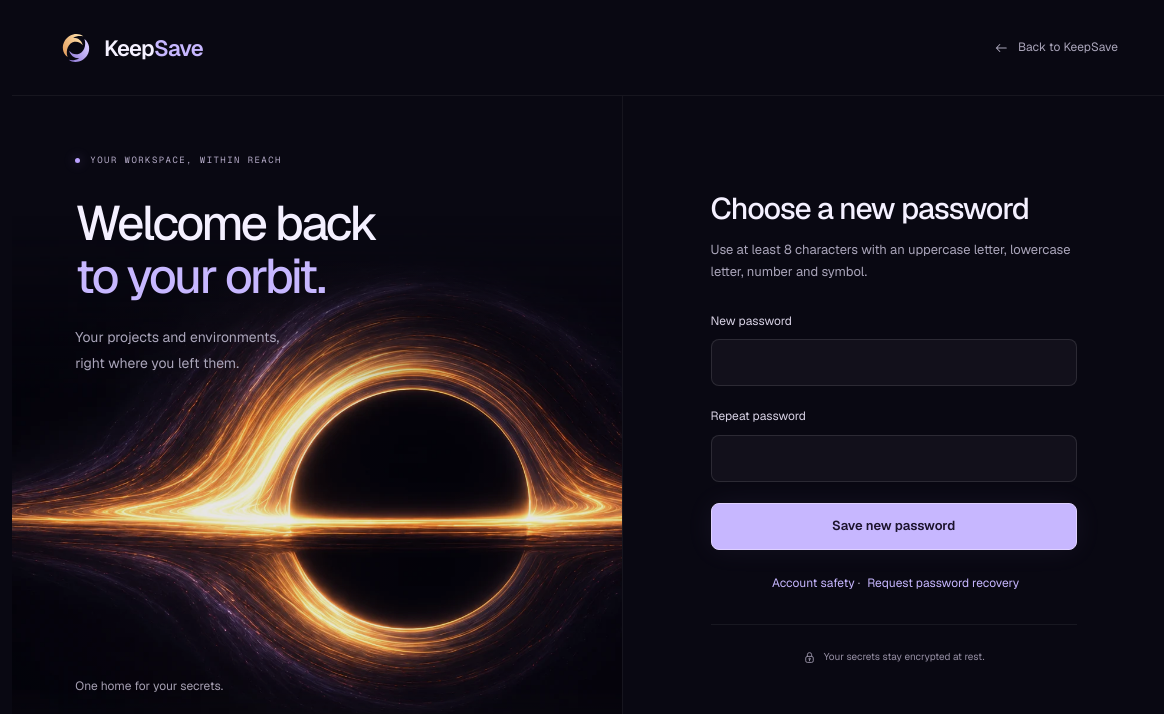
does not sign out a newer account when an earlier reset finishes
Expected: the button "Save new password" is enabled, [711, 503, 1077, 550]
Type "A-safe-test-password-2026!" into the password field labelled "New password" at (894, 363), box [711, 339, 1077, 386]
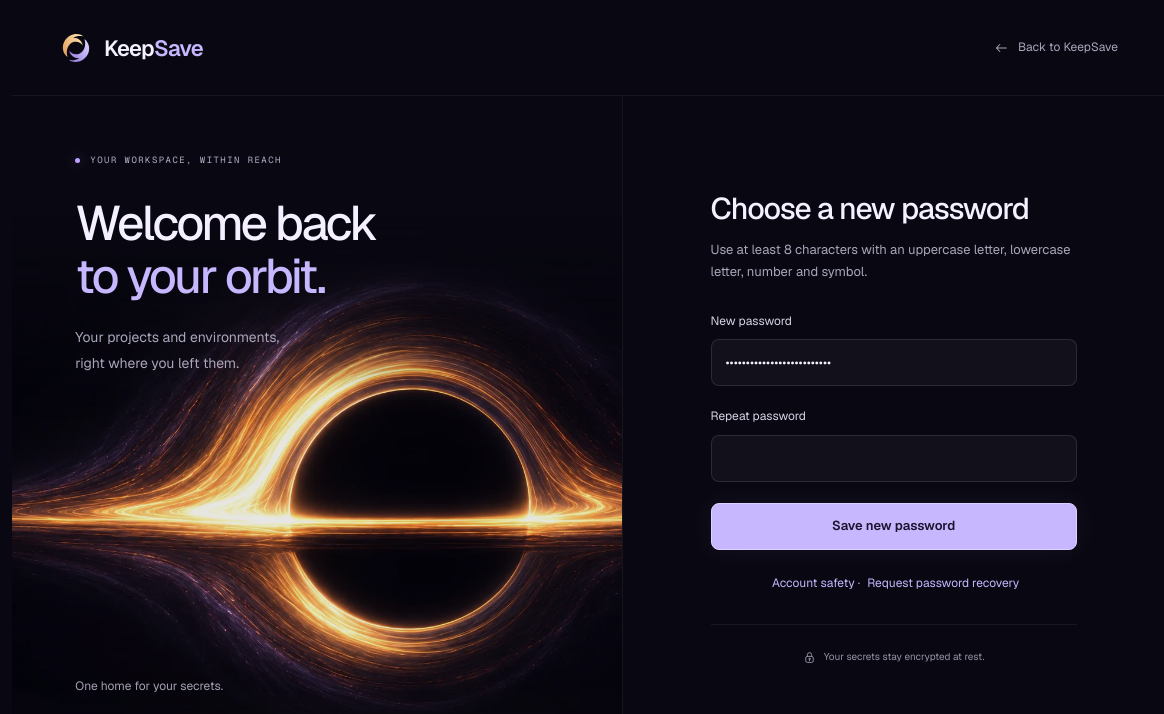
Type "A-safe-test-password-2026!" into the password field labelled "Repeat password" at (894, 458), box [711, 435, 1077, 482]
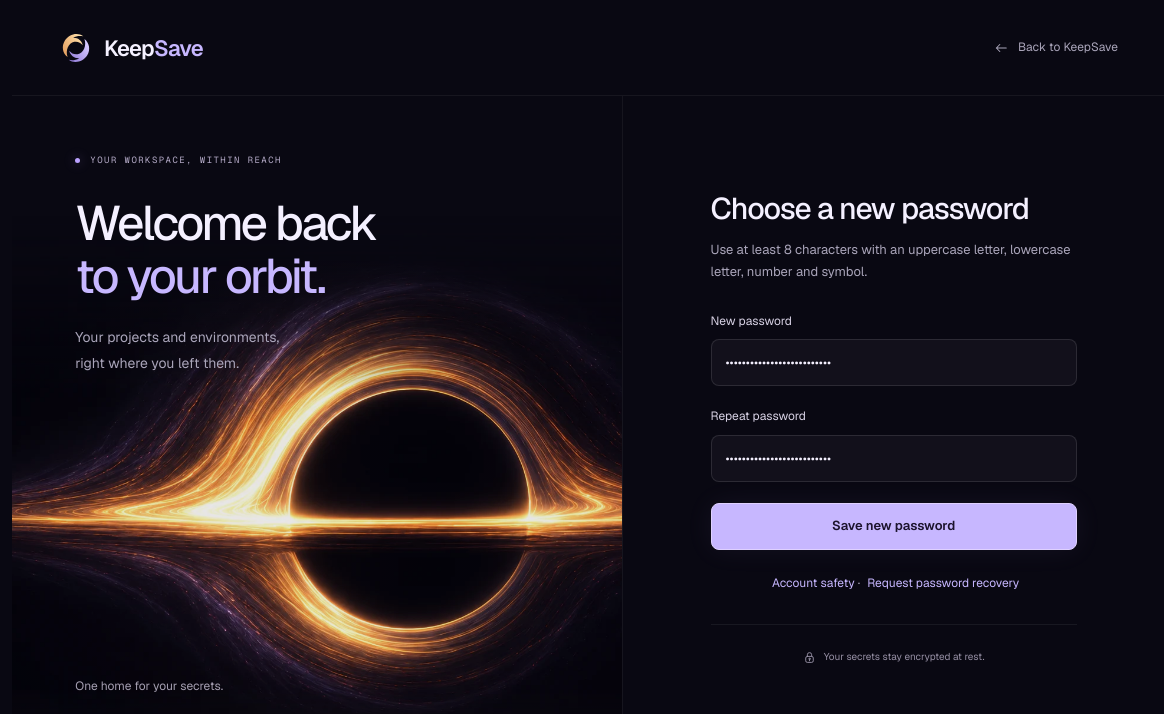
Click the button "Save new password" at (894, 526), box [711, 503, 1077, 550]
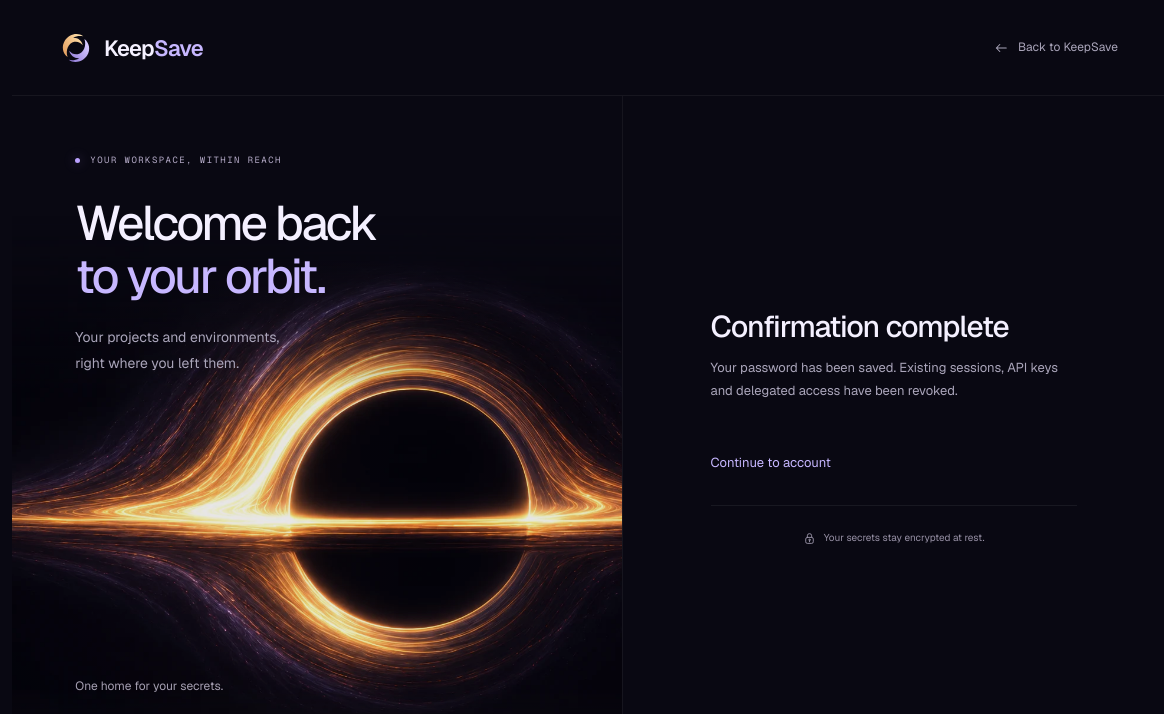
Now the heading "Confirmation complete" is shown, box [711, 307, 1009, 346]
